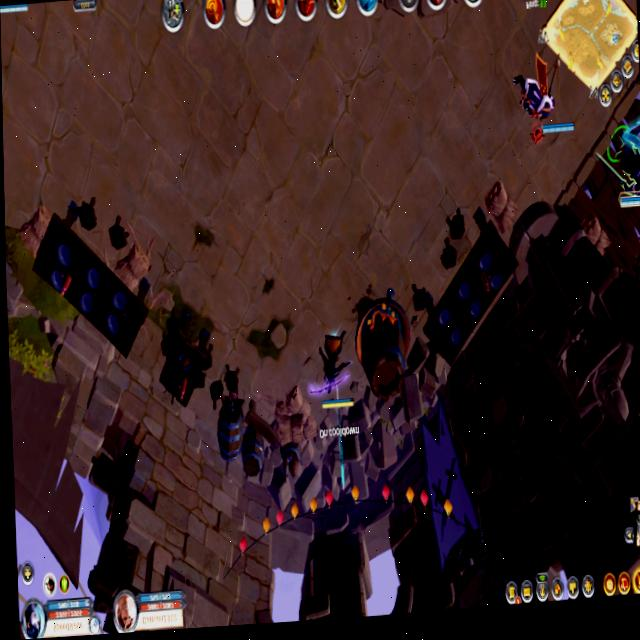red: (512, 56, 576, 147), (311, 323, 356, 413), (605, 120, 640, 214), (0, 3, 30, 18)
